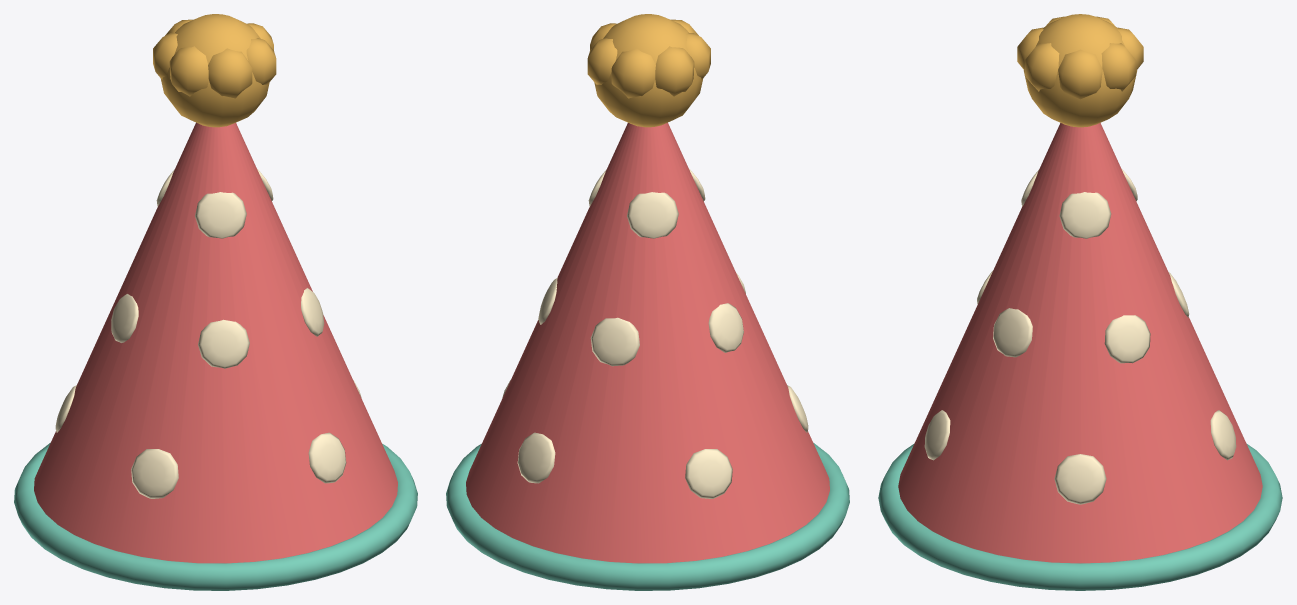
The model's file is party-hat.glb.
3 views of the same model, side by side, from view 1: azimuth 30°, elevation 25°; view 2: azimuth 150°, elevation 25°; view 3: azimuth 270°, elevation 25° (orthographic).
Visible parts, largest first — view 1: cone, mint-opening, pompom, cream-dot.008, cream-dot.012, cream-dot.003, pompom-lobe.005, pompom-lobe.004, cream-dot.004, pompom-lobe.006, cream-dot.007, cream-dot.009 (+1 smaller); view 2: cone, mint-opening, pompom, cream-dot.011, cream-dot.002, cream-dot.006, pompom-lobe.002, pompom-lobe.003, cream-dot.001, cream-dot.007, pompom-lobe.001, pompom-lobe.004; view 3: cone, mint-opening, pompom, cream-dot, cream-dot.010, cream-dot.005, pompom-lobe, cream-dot.009, pompom-lobe.001, pompom-lobe.006, cream-dot.001, cream-dot.004.
Boxes of the visible parts, x1,y1,x2,y2 form: cone: (34, 122, 397, 563); mint-opening: (14, 443, 417, 590); pompom: (160, 14, 269, 127); cream-dot.008: (198, 319, 249, 368); cream-dot.012: (195, 192, 246, 238); cream-dot.003: (131, 449, 178, 498); pompom-lobe.005: (208, 48, 252, 98); pompom-lobe.004: (169, 46, 208, 96); cream-dot.004: (308, 432, 346, 483); pompom-lobe.006: (246, 38, 276, 84); cream-dot.007: (111, 294, 138, 342); cream-dot.009: (301, 288, 324, 336); cone: (466, 122, 829, 563); mint-opening: (446, 443, 849, 590); pompom: (594, 14, 703, 127); cream-dot.011: (627, 192, 678, 238); cream-dot.002: (685, 449, 732, 498); cream-dot.006: (590, 317, 639, 366); pompom-lobe.002: (611, 48, 655, 98); pompom-lobe.003: (655, 46, 694, 96); cream-dot.001: (517, 432, 555, 483); cream-dot.007: (708, 303, 743, 352); pompom-lobe.001: (587, 38, 617, 84); pompom-lobe.004: (686, 33, 710, 79); cone: (898, 123, 1262, 563); mint-opening: (878, 443, 1282, 590); pompom: (1023, 14, 1137, 127); cream-dot: (1054, 454, 1106, 504); cream-dot.010: (1059, 192, 1111, 238); cream-dot.005: (1104, 315, 1150, 363); pompom-lobe: (1058, 49, 1102, 99); cream-dot.009: (993, 308, 1032, 357); pompom-lobe.001: (1101, 43, 1136, 91); pompom-lobe.006: (1024, 43, 1059, 91); cream-dot.001: (1210, 410, 1236, 460); cream-dot.004: (924, 410, 950, 460).
Bounding box in the file's own units: 0.7448 × 1 × 0.7448.
